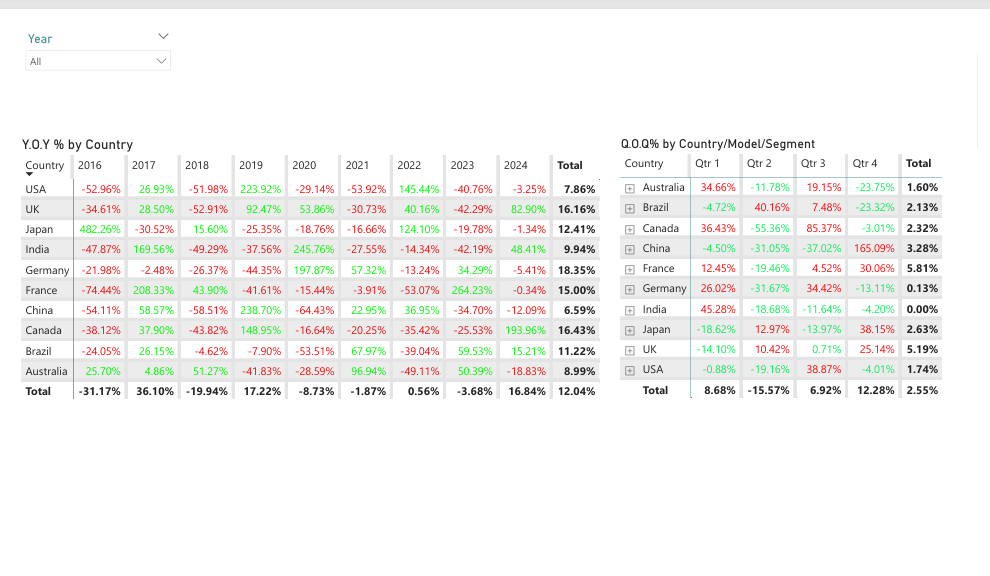

The dashboard page shown, as its layout file describes it:
{"tool":"powerbi","page":{"name":"Page 2","canvas":[1280,720],"ordinal":1},"visuals":[{"type":"slicer","fields":{"Values":["bmw_global_sales_dataset.new_date.Variation.Date Hierarchy.Year"]},"box":[0,0,213.7,79],"z":1000},{"type":"pivotTable","title":"Q.O.Q% by Country/Model/Segment","fields":{"Rows":["bmw_global_sales_dataset.country","bmw_global_sales_dataset.model","bmw_global_sales_dataset.segment"],"Columns":["bmw_global_sales_dataset.new_date.Variation.Date Hierarchy.Quarter"],"Values":["bmw_global_sales_dataset.Sum of total_sales QoQ%"]},"box":[799,146.3,469.8,358.5],"z":2000},{"type":"pivotTable","title":"Y.O.Y % by Country","fields":{"Rows":["bmw_global_sales_dataset.country"],"Columns":["bmw_global_sales_dataset.new_date.Variation.Date Hierarchy.Year"],"Values":["bmw_global_sales_dataset.Sum of total_sales YoY%"]},"box":[0,146.3,799,358.5],"z":4000}]}

Visuals, with their boxes on the page's 1280x720 design canvas (x1, y1, x2, y2). These are canvas units, not pixel positions in the 990x576 screenshot, which may show the page scaled, cropped or inside an application window:
slicer - bmw_global_sales_dataset.new_date.Variation.Date Hierarchy.Year: Rect(0, 0, 214, 79)
"Q.O.Q% by Country/Model/Segment" pivotTable: Rect(799, 146, 1269, 505)
"Y.O.Y % by Country" pivotTable: Rect(0, 146, 799, 505)
